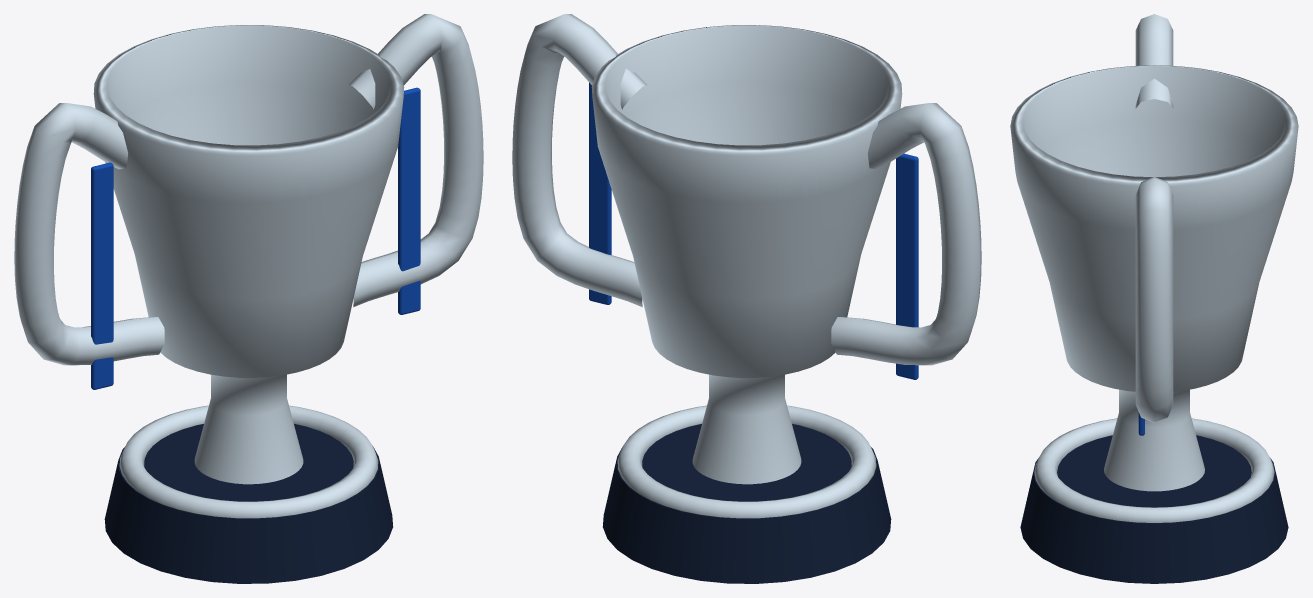
Rendered from blues-trophy-cup.glb.
The picture shows the model from 3 angles, left to right: view 1: azimuth 30°, elevation 25°; view 2: azimuth 150°, elevation 25°; view 3: azimuth 270°, elevation 25°; orthographic projection. The views are drawn at different scales.
Bounding box in the file's own units: 1.97 × 1.88 × 1.14.
